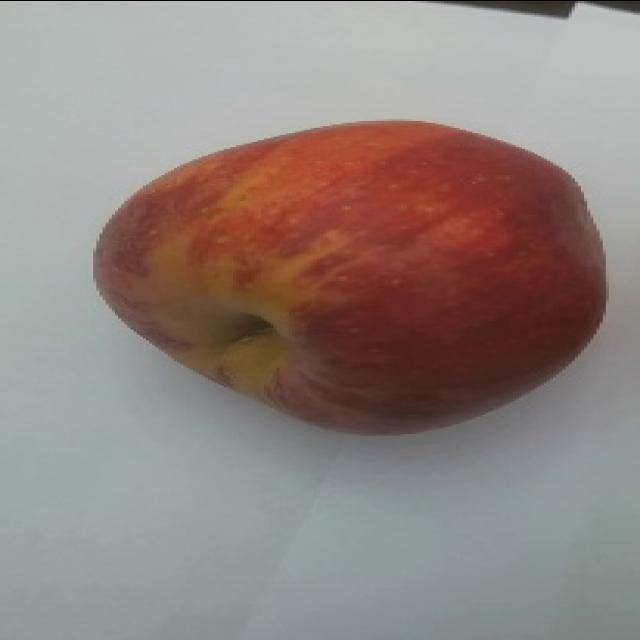Apple: (92, 118, 608, 436)
